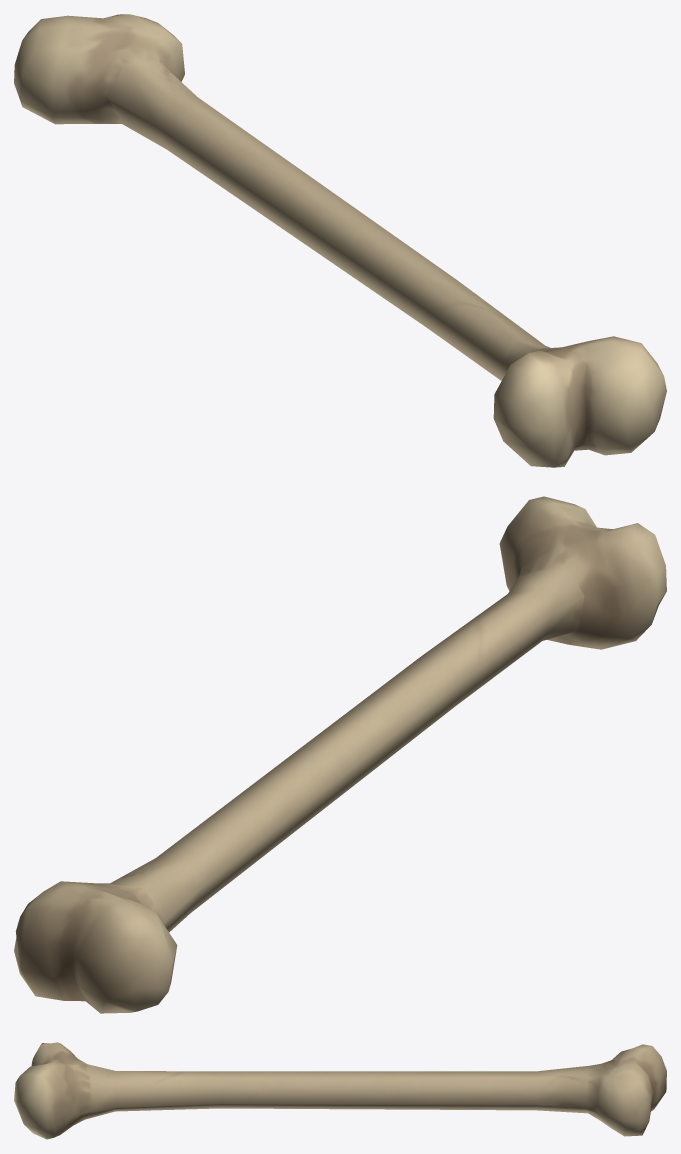
3 views of the same model, one above another, from view 1: azimuth 30°, elevation 25°; view 2: azimuth 150°, elevation 25°; view 3: azimuth 270°, elevation 25° (orthographic). The views are drawn at different scales.
Visible parts, largest first — view 1: submesh_0; view 2: submesh_0; view 3: submesh_0.
Boxes of the visible parts, x1,y1,x2,y2 form: submesh_0: (14, 14, 666, 467); submesh_0: (14, 496, 666, 1013); submesh_0: (14, 1042, 666, 1139).
Bounding box in the file's own units: 0.1379 × 0.0911 × 0.7535.
1 material, 1 textured.
